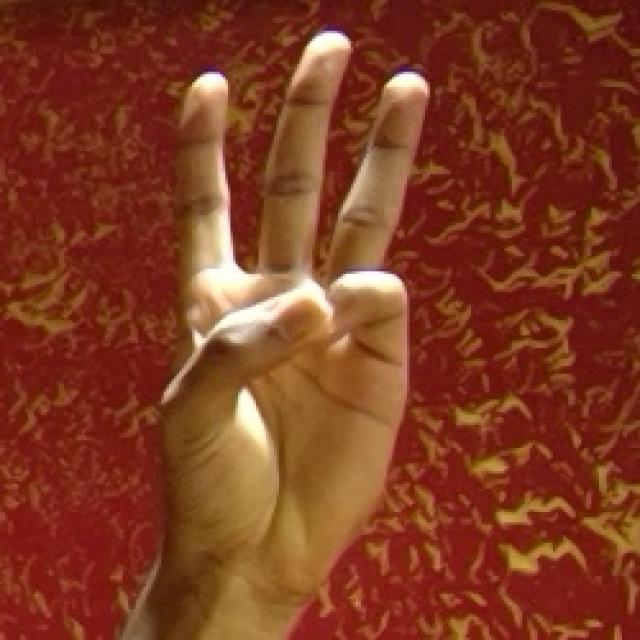Numeric-6: (155, 17, 435, 563)
